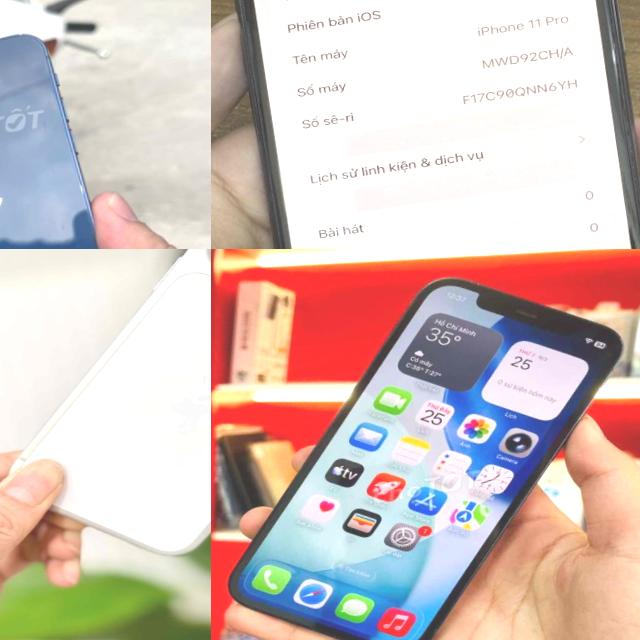gen_11: (236, 0, 640, 249)
gen_12_13: (211, 249, 640, 640), (0, 13, 172, 249)
gen_17: (0, 249, 211, 575)
